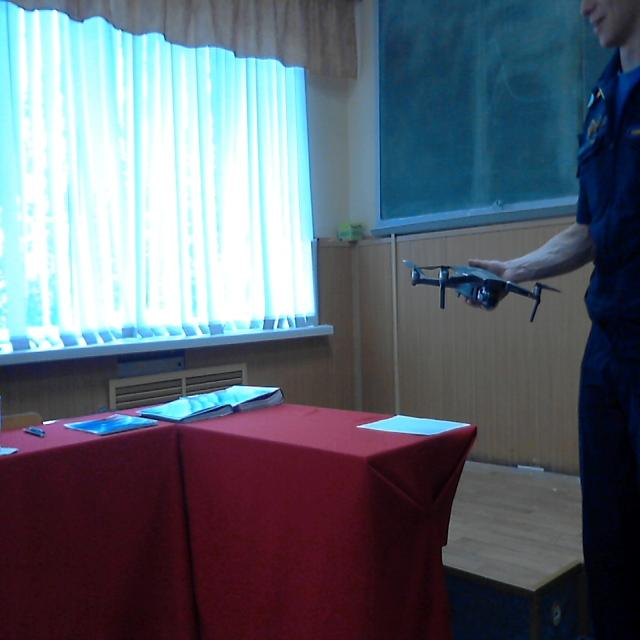drone: (389, 236, 557, 327)
